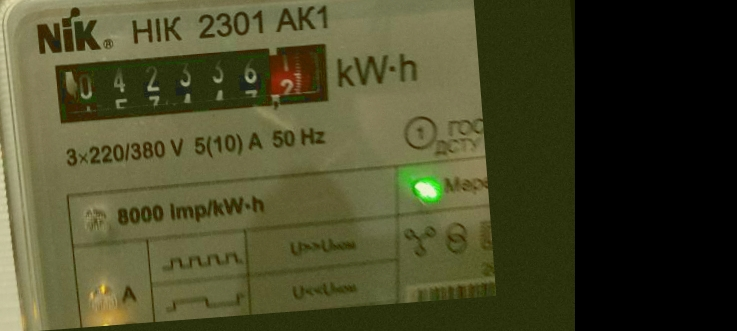0: (75, 71, 93, 100)
1: (277, 50, 290, 73)
2: (142, 62, 161, 92), (277, 76, 294, 95)
3: (206, 54, 224, 85), (174, 58, 191, 87)
4: (108, 63, 128, 94)
6: (240, 53, 259, 84)
screen: (41, 29, 343, 132)
